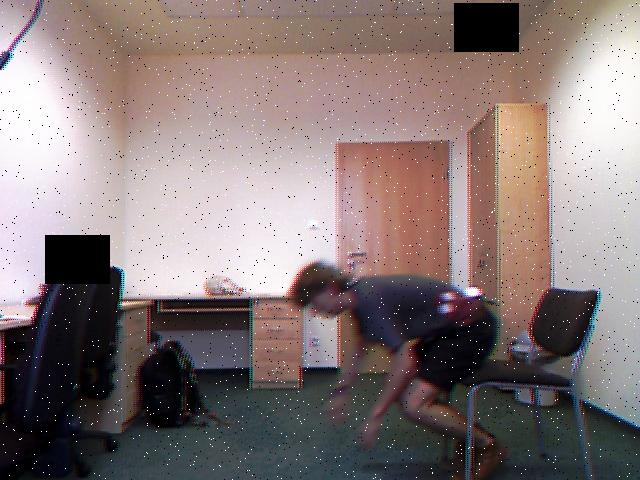near-fall: (279, 250, 516, 480)
